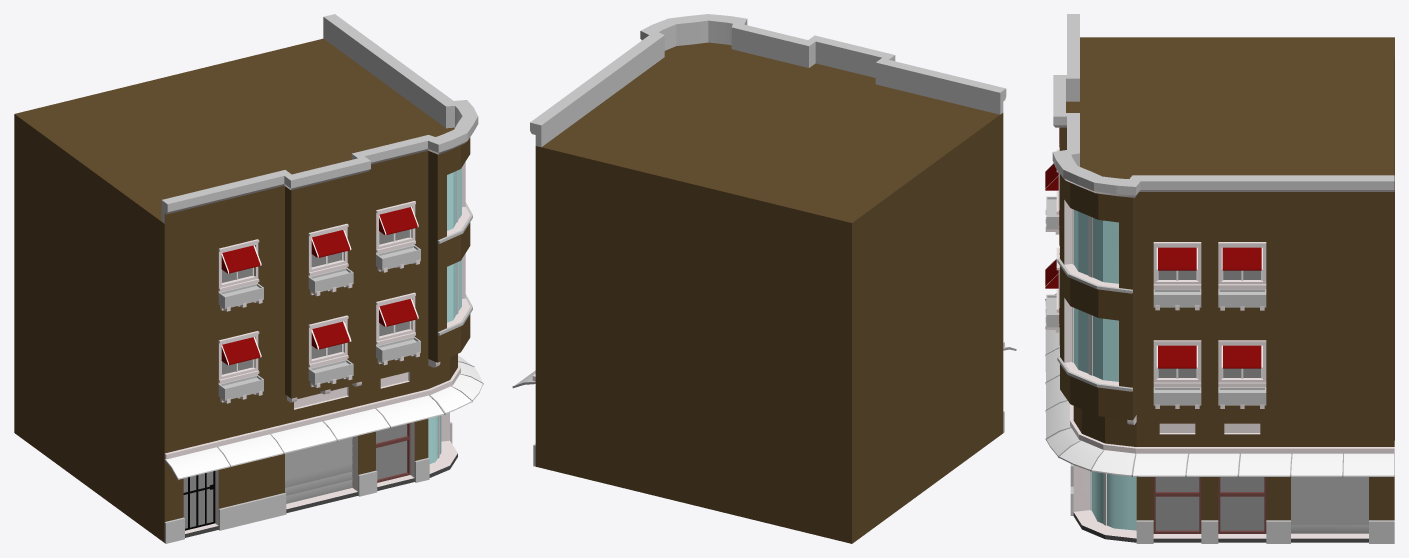
Rendered from Building2.fbx.
3 renders of one model, left to right at view 1: azimuth 30°, elevation 25°; view 2: azimuth 150°, elevation 25°; view 3: azimuth 270°, elevation 25°, orthographic. The views are drawn at different scales.
Visible parts, largest first — view 1: facade, large_awning, doors_model_2, small_awning_model_2, small_windows_model_2, flower_pot_support, large_windows_4, large_windows_1; view 2: facade; view 3: facade, large_awning, doors_model_1, small_awning_model_1, large_windows_3, large_windows_2, small_windows_model_1, large_windows_5, large_windows_1, large_windows_4, small_awning_model_2, large_windows_6 (+1 smaller).
Boxes of the visible parts, bbox=[...] form: facade: bbox=[14, 14, 478, 543]; large_awning: bbox=[164, 355, 483, 479]; doors_model_2: bbox=[183, 423, 410, 530]; small_awning_model_2: bbox=[221, 207, 418, 365]; small_windows_model_2: bbox=[221, 229, 411, 374]; flower_pot_support: bbox=[220, 259, 419, 403]; large_windows_4: bbox=[447, 262, 457, 322]; large_windows_1: bbox=[447, 170, 457, 230]; facade: bbox=[530, 14, 1006, 543]; facade: bbox=[1046, 14, 1394, 543]; large_awning: bbox=[1045, 293, 1394, 477]; doors_model_1: bbox=[1153, 477, 1368, 533]; small_awning_model_1: bbox=[1156, 247, 1262, 368]; large_windows_3: bbox=[1090, 315, 1118, 381]; large_windows_2: bbox=[1090, 217, 1118, 283]; small_windows_model_1: bbox=[1156, 248, 1262, 378]; large_windows_5: bbox=[1105, 473, 1136, 530]; large_windows_1: bbox=[1072, 209, 1090, 276]; large_windows_4: bbox=[1072, 307, 1090, 374]; small_awning_model_2: bbox=[1045, 128, 1059, 327]; large_windows_6: bbox=[1090, 471, 1104, 524].
Size of the model in its own units: 12.47 by 12.02 by 10.45.
